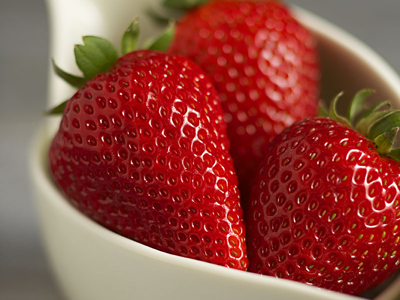strawberry: (53, 52, 239, 279), (247, 118, 400, 297), (181, 1, 316, 164)
